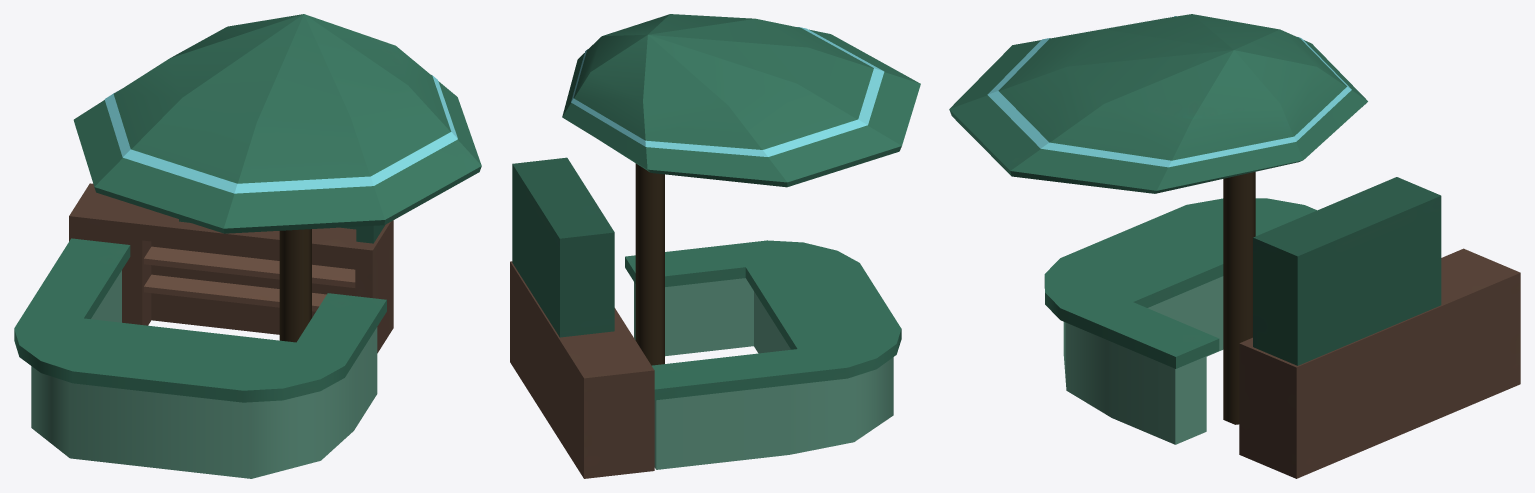
Rendered from Foodstand_05.fbx.
3 views of the same model, side by side, from view 1: azimuth 30°, elevation 25°; view 2: azimuth 150°, elevation 25°; view 3: azimuth 270°, elevation 25° (orthographic). The views are drawn at different scales.
Visible parts, largest first — view 1: Foodstand_05; view 2: Foodstand_05; view 3: Foodstand_05.
Part boxes in pixels (x1,y1,x2,y2): Foodstand_05: (14, 14, 481, 478); Foodstand_05: (510, 14, 920, 478); Foodstand_05: (949, 14, 1520, 478).
Bounding box in the file's own units: 11.52 × 10.47 × 14.54.
2 materials, 2 textured.
